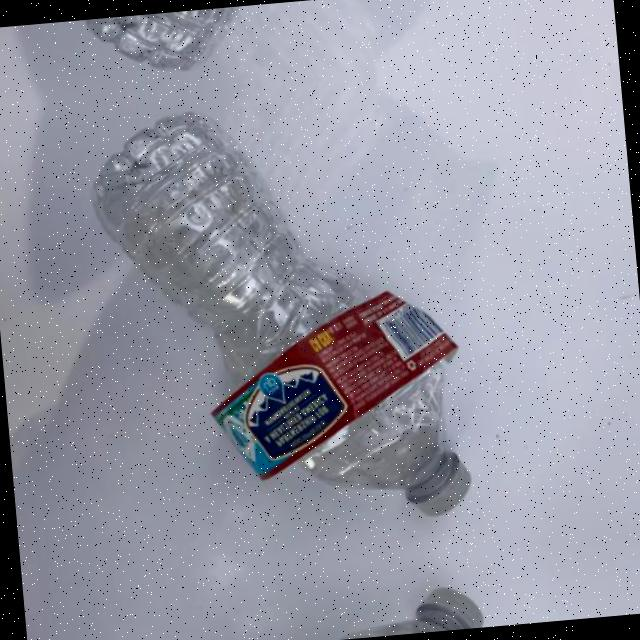Plastic: (102, 68, 480, 546), (94, 0, 440, 97), (146, 579, 489, 640)
